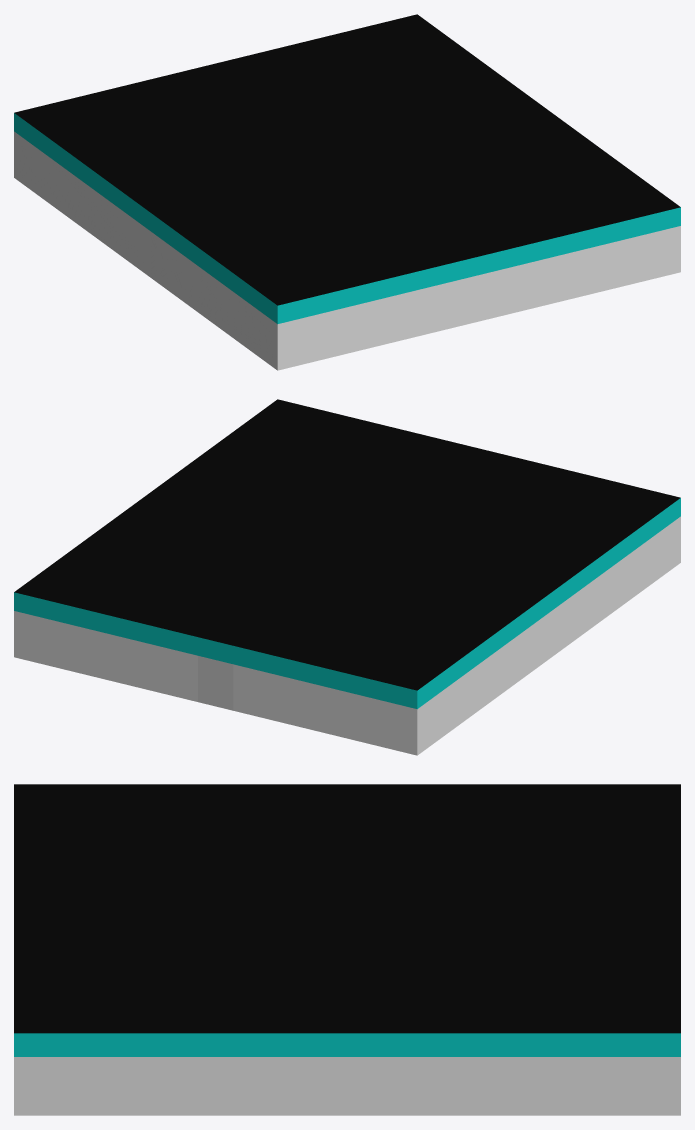
The model's file is lobby-room.glb.
The picture shows the model from 3 angles, top to bottom: view 1: azimuth 30°, elevation 25°; view 2: azimuth 150°, elevation 25°; view 3: azimuth 270°, elevation 25°; orthographic projection. The views are drawn at different scales.
Visible parts, largest first — view 1: Room; view 2: Room; view 3: Room.
Boxes of the visible parts, x1=… form: Room: x1=14, y1=14, x2=680, y2=370; Room: x1=14, y1=399, x2=680, y2=755; Room: x1=14, y1=784, x2=680, y2=1115.
Size of the model in its own units: 45.45 by 7 by 51.45.
1 material, 1 textured.
